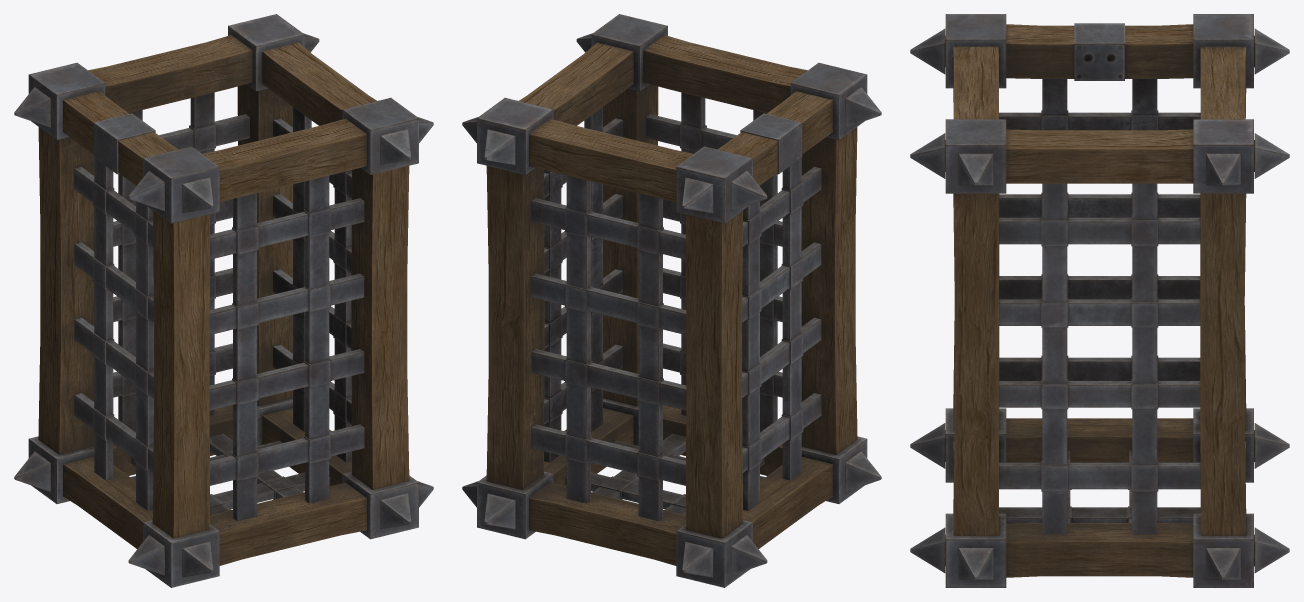
File: Cell_2.fbx
3 views of the same model, side by side, from view 1: azimuth 30°, elevation 25°; view 2: azimuth 150°, elevation 25°; view 3: azimuth 270°, elevation 25° (orthographic). The views are drawn at different scales.
Visible parts, largest first — view 1: Cell_2; view 2: Cell_2; view 3: Cell_2.
Part boxes in pixels (bbox=[...]): Cell_2: bbox=[14, 14, 433, 587]; Cell_2: bbox=[462, 14, 881, 587]; Cell_2: bbox=[910, 14, 1289, 587].
Size of the model in its own units: 109 by 140 by 108.
